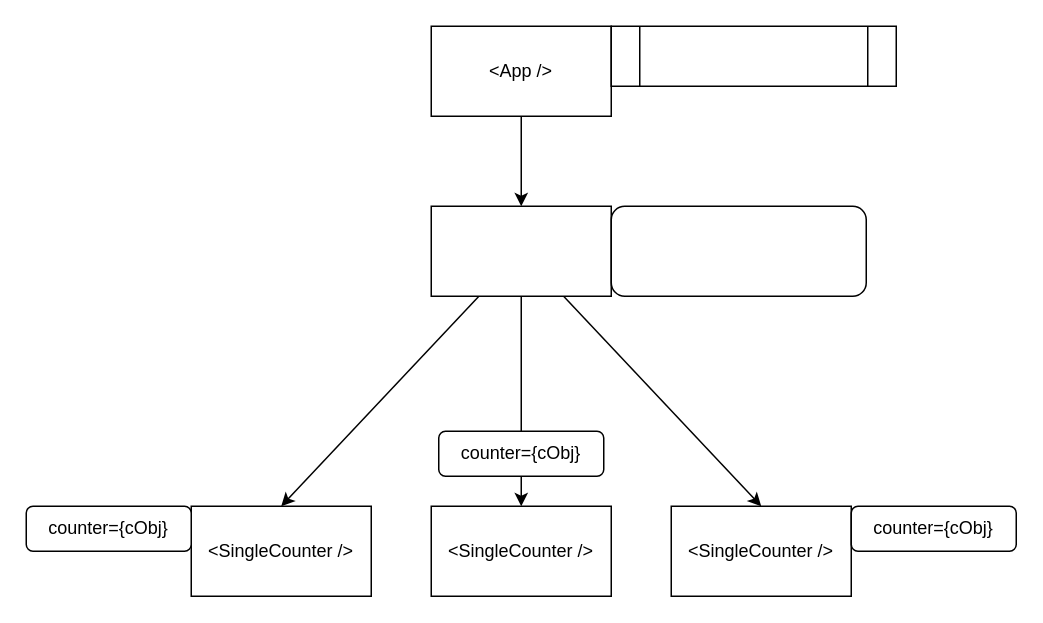
This 1043x623 diagram has some shape labels left out. Here are the shapes that lost their labels. From the top down, the centre of each, then its label:
At (x=753, y=55): "countersDataArr".
At (x=520, y=250): "<CountersList />".
At (x=738, y=250): "list={countersDataArr}".
